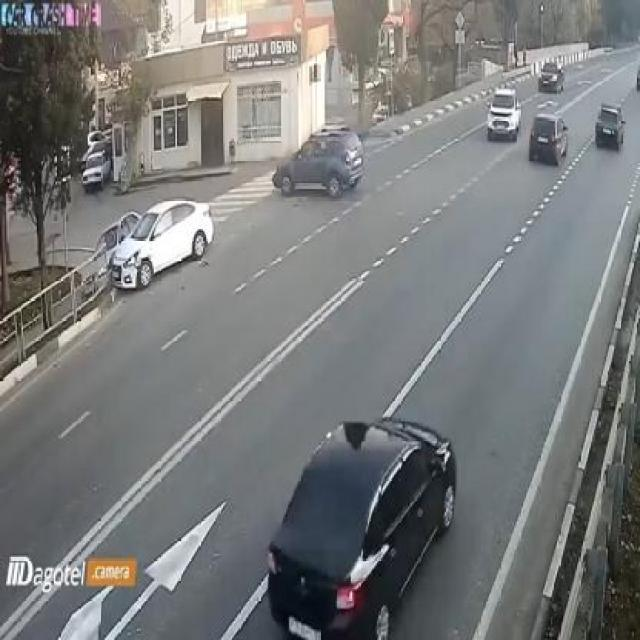accident: (88, 188, 224, 318)
